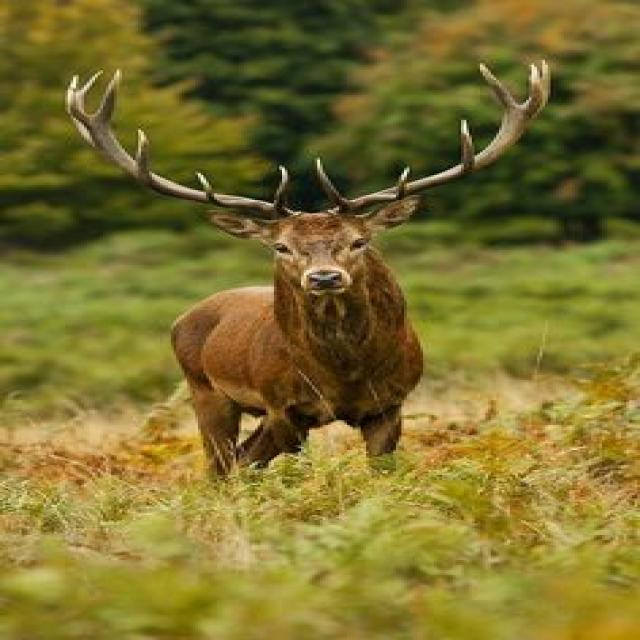Herbivorous: (71, 77, 526, 478)
